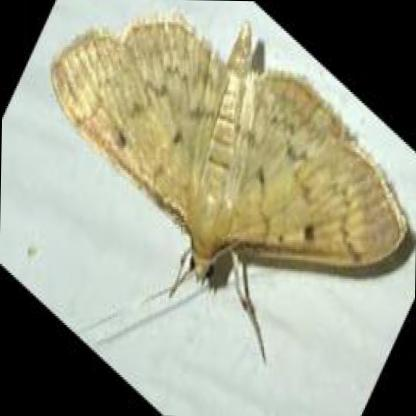Leaf Webber: (42, 12, 409, 287)
